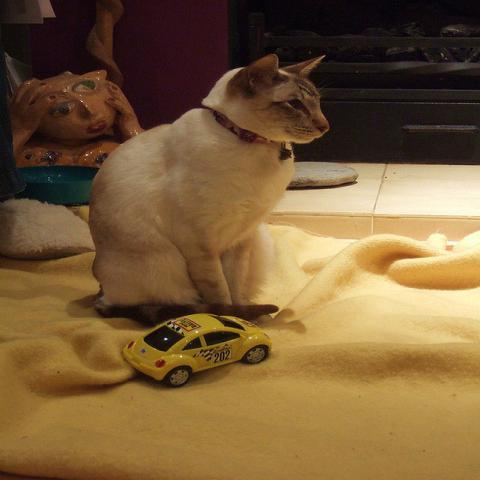car: (117, 315, 275, 388)
